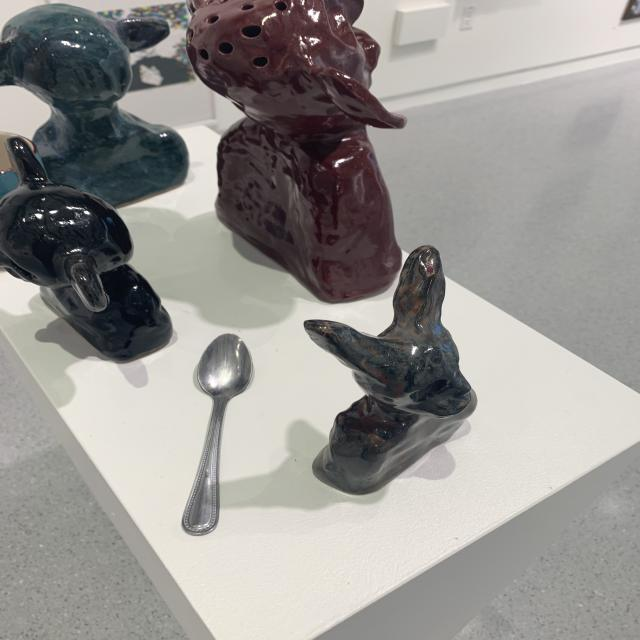Spoon: (178, 327, 256, 538)
